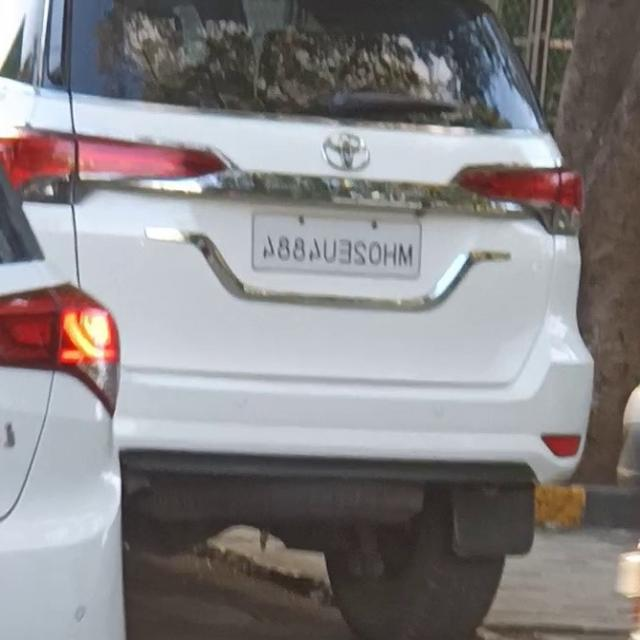license_plate: (244, 207, 426, 285)
